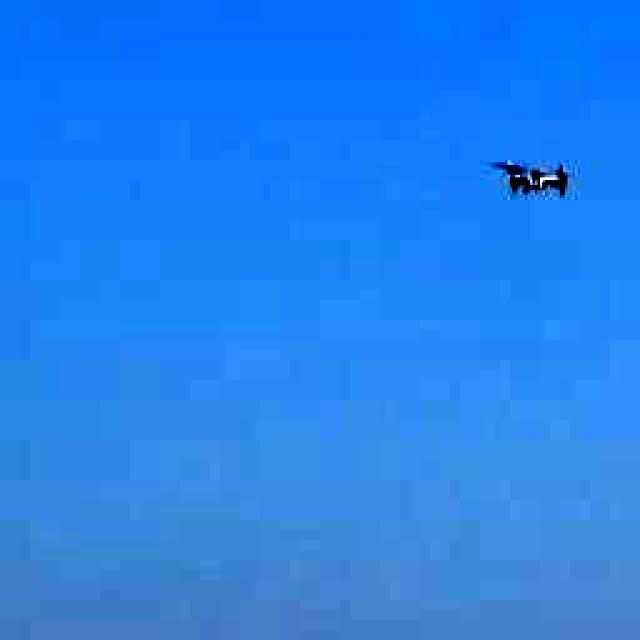bird: (478, 119, 590, 231)
